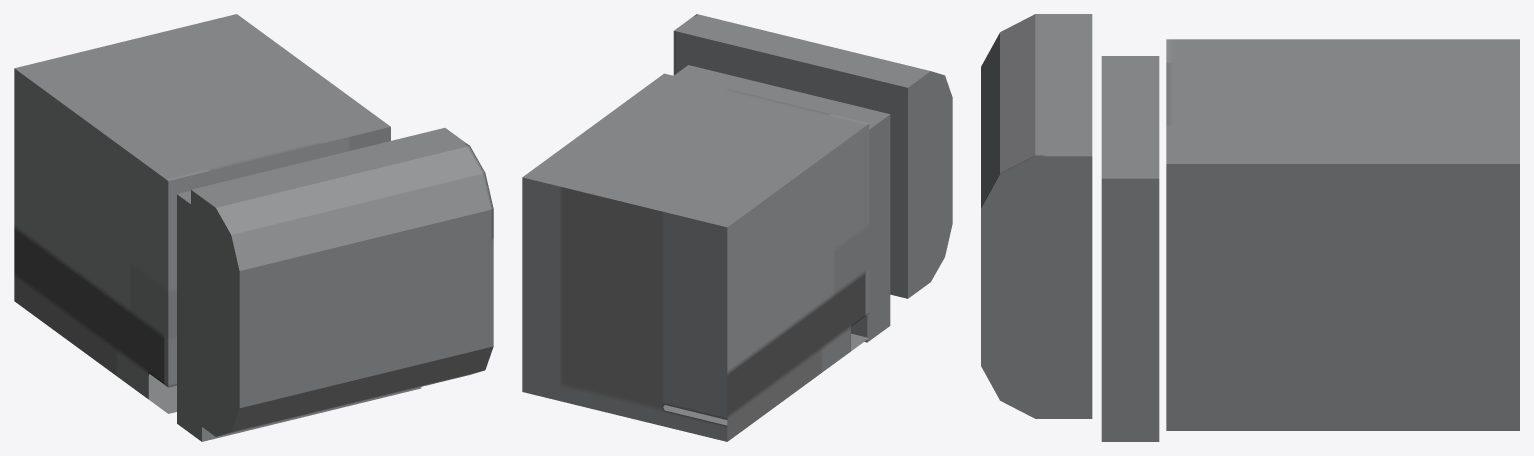
3 views of the same model, side by side, from view 1: azimuth 30°, elevation 25°; view 2: azimuth 150°, elevation 25°; view 3: azimuth 270°, elevation 25° (orthographic). The views are drawn at different scales.
Size of the model in its own units: 0.5704 by 0.5552 by 0.9131.
